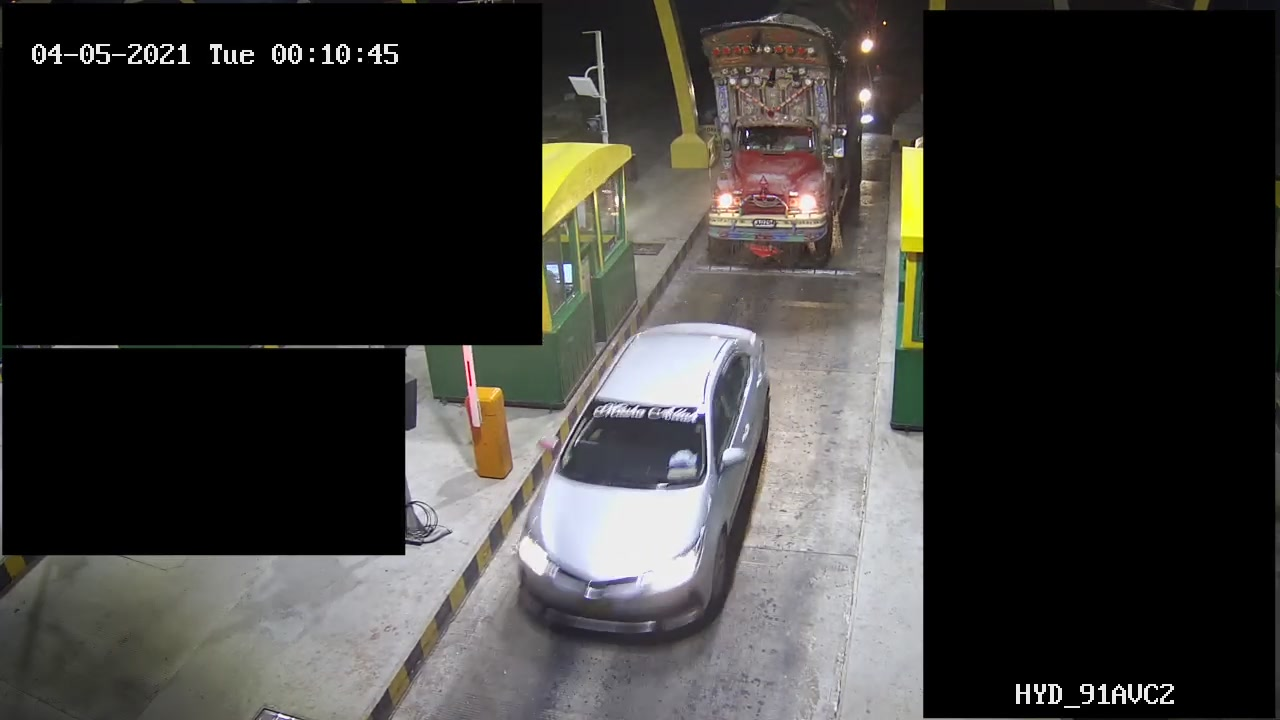F1: (514, 312, 784, 650)
F5: (687, 3, 864, 267)
